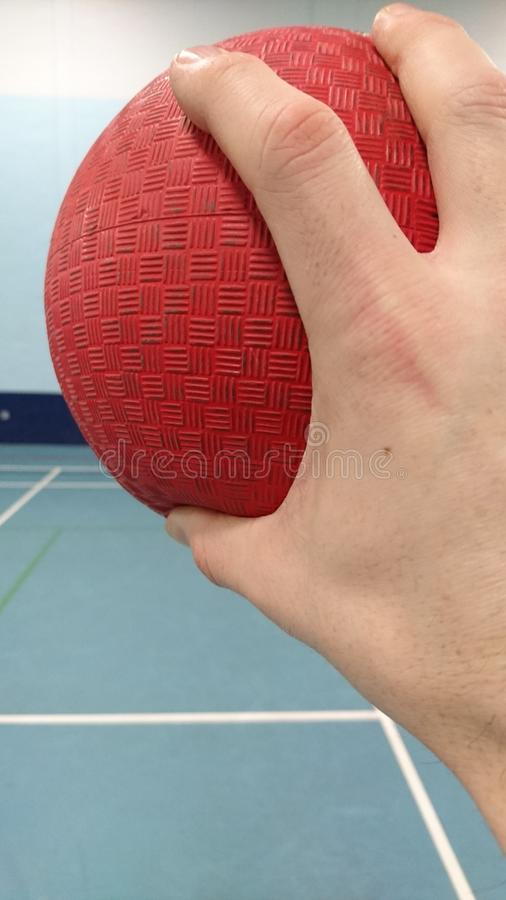red ball: (45, 24, 450, 518)
